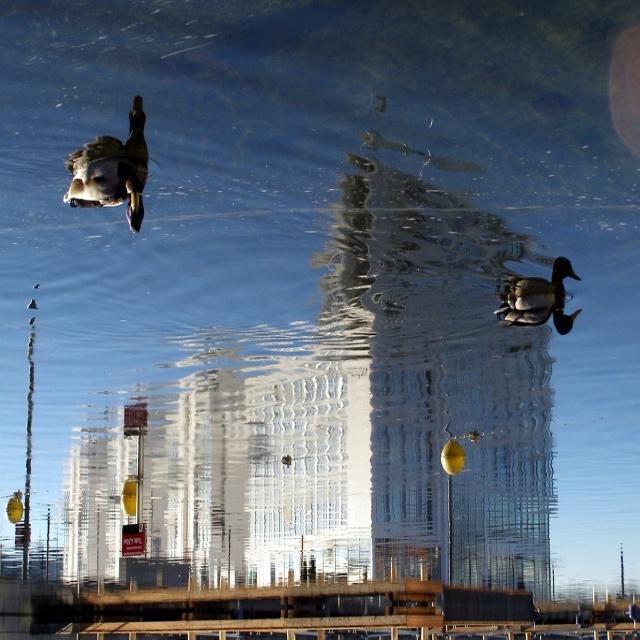Duck: (60, 98, 142, 208), (492, 250, 583, 330)
